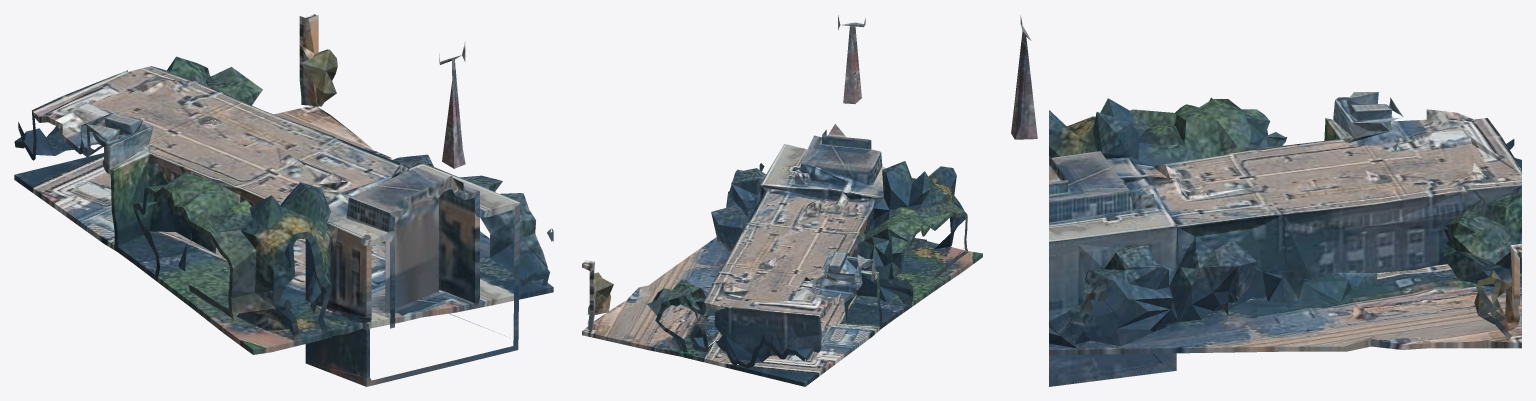
Rendered from chunk_2_-8.glb.
3 views of the same model, side by side, from view 1: azimuth 30°, elevation 25°; view 2: azimuth 150°, elevation 25°; view 3: azimuth 270°, elevation 25° (orthographic). The views are drawn at different scales.
Visible parts, largest first — view 1: hero-chunk; view 2: hero-chunk; view 3: hero-chunk.
Part boxes in pixels (x1=…): hero-chunk: x1=14, y1=14, x2=553, y2=386; hero-chunk: x1=582, y1=15, x2=982, y2=386; hero-chunk: x1=1011, y1=15, x2=1521, y2=386.
Size of the model in its own units: 55.42 by 58.39 by 82.45.
2 materials, 2 textured.
